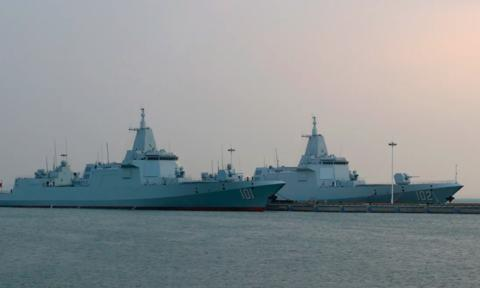MIL_Ship: (1, 103, 295, 208), (244, 112, 466, 204)
